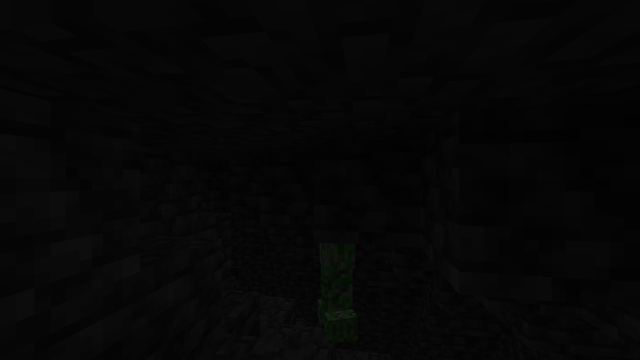creepers: (316, 251, 353, 341)
